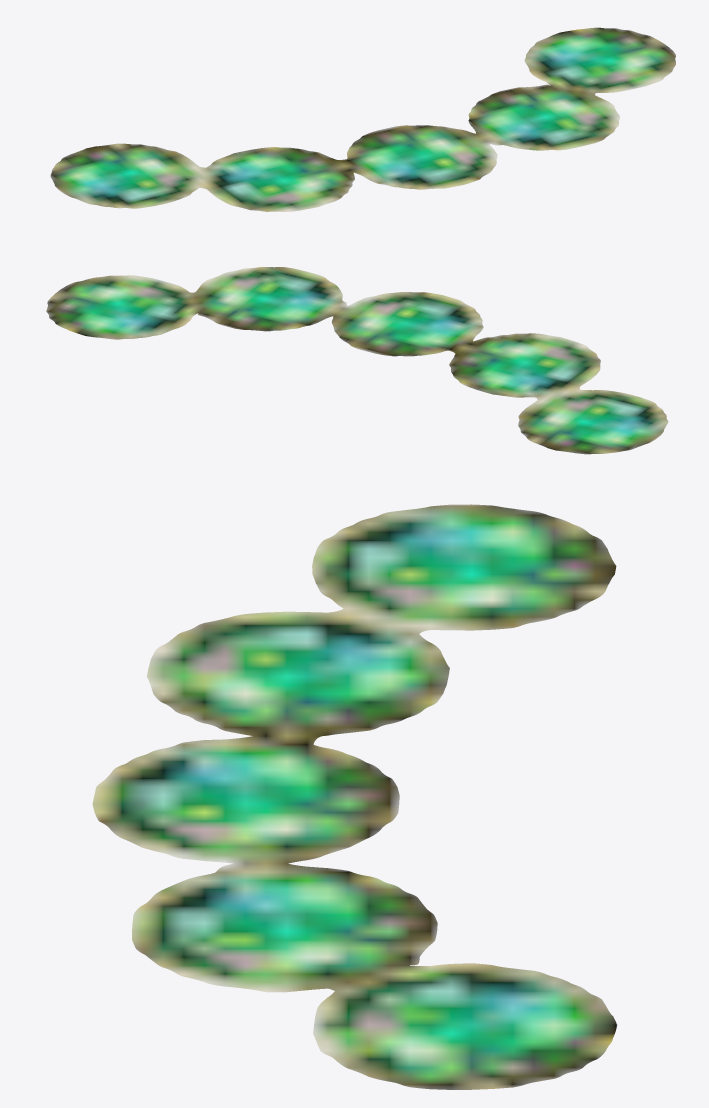
File: giftgoods102b.fbx
The picture shows the model from 3 angles, top to bottom: view 1: azimuth 30°, elevation 25°; view 2: azimuth 150°, elevation 25°; view 3: azimuth 270°, elevation 25°; orthographic projection. The views are drawn at different scales.
Visible parts, largest first — view 1: giftgoods102b; view 2: giftgoods102b; view 3: giftgoods102b.
Part boxes in pixels (<box>): giftgoods102b: <box>50,27,675,211</box>; giftgoods102b: <box>46,267,668,454</box>; giftgoods102b: <box>92,504,617,1089</box>.
Size of the model in its own units: 0.1973 by 0 by 0.0747.
